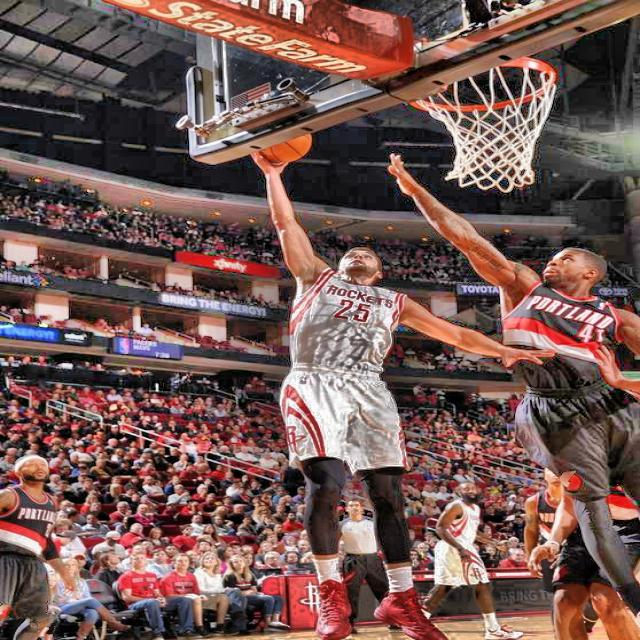rim: (407, 53, 559, 189)
